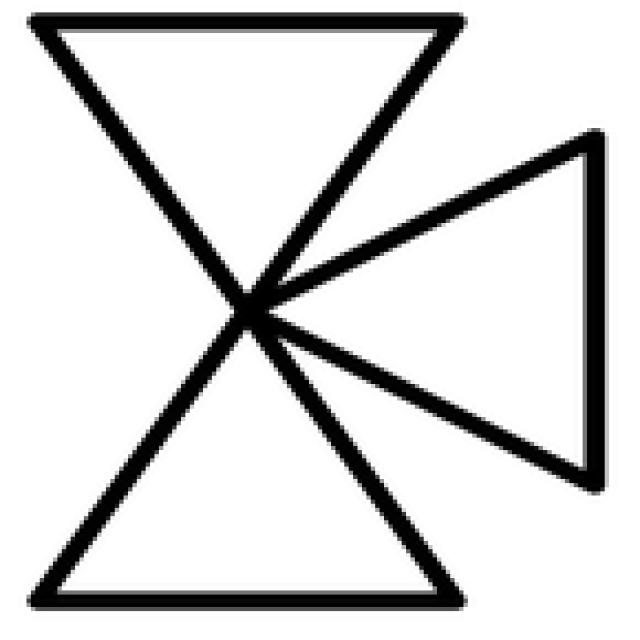3-way Valve: (40, 313, 457, 605), (37, 20, 457, 309), (252, 137, 598, 486)
